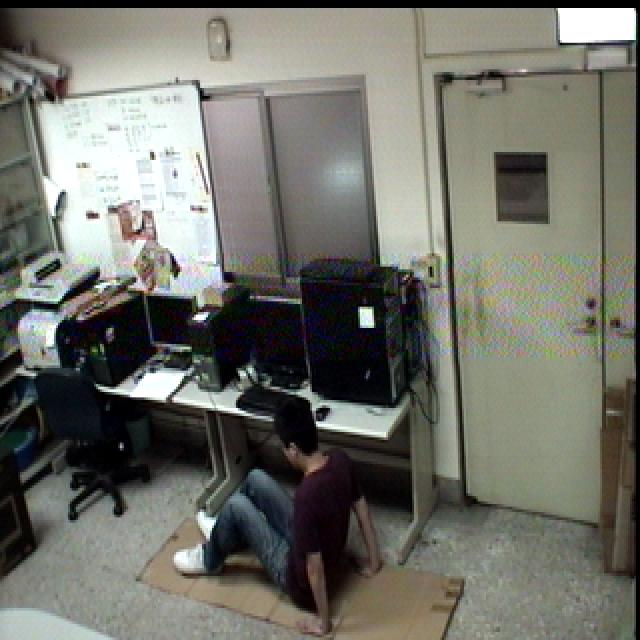sit: (169, 389, 388, 640)
